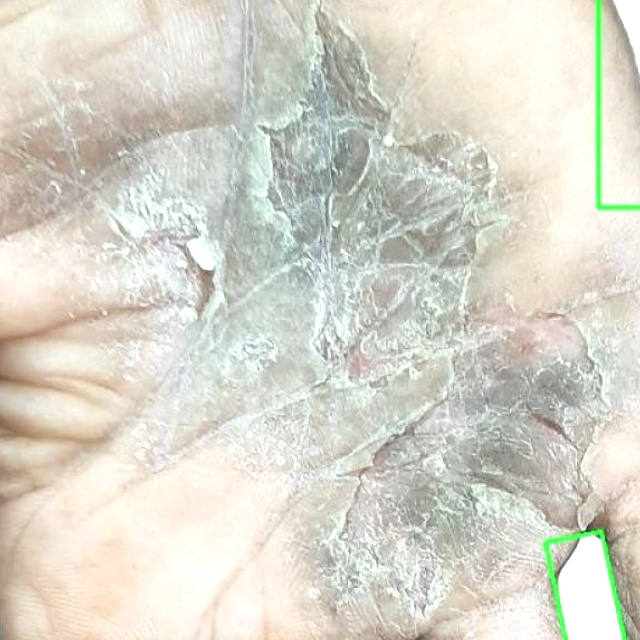Contact Dermatitis: (546, 531, 624, 639)
